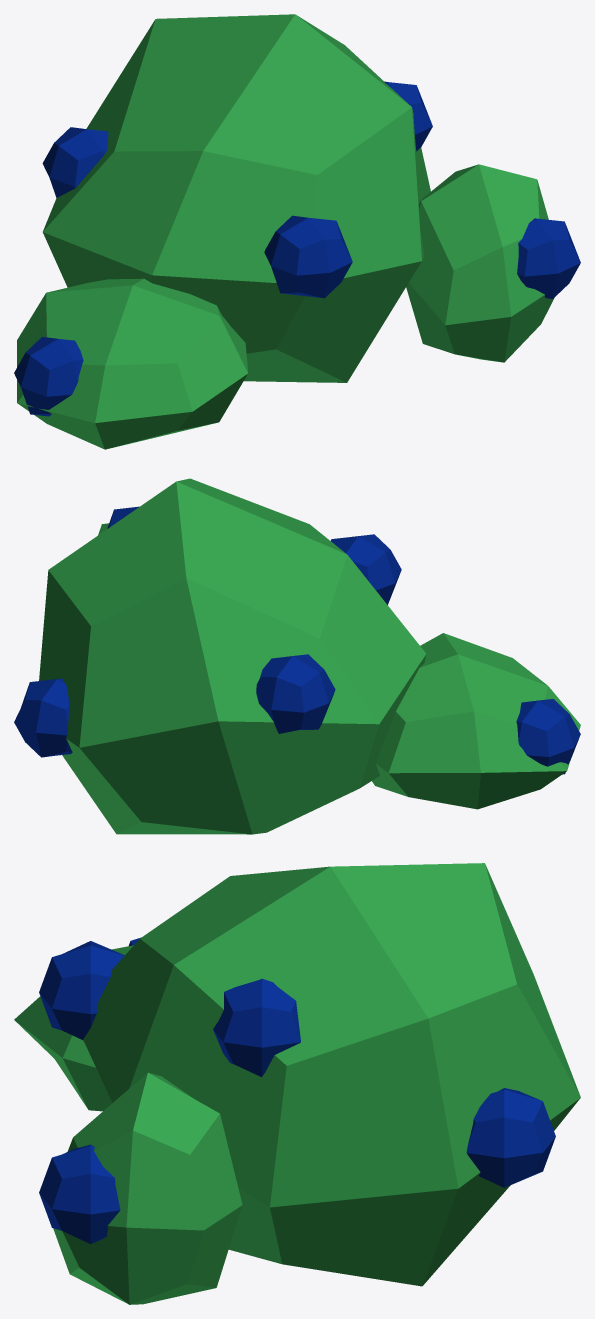
The model's file is BerryBush.fbx.
3 views of the same model, one above another, from view 1: azimuth 30°, elevation 25°; view 2: azimuth 150°, elevation 25°; view 3: azimuth 270°, elevation 25° (orthographic). The views are drawn at different scales.
Visible parts, largest first — view 1: Bush, Berry; view 2: Bush, Berry; view 3: Bush, Berry.
Boxes of the visible parts, bbox=[...] form: Bush: bbox=[17, 14, 554, 449]; Berry: bbox=[14, 81, 580, 416]; Bush: bbox=[39, 478, 580, 834]; Berry: bbox=[14, 506, 580, 774]; Bush: bbox=[14, 863, 580, 1304]; Berry: bbox=[39, 937, 555, 1243].
Size of the model in its own units: 0.5334 by 0.3351 by 0.4217.
